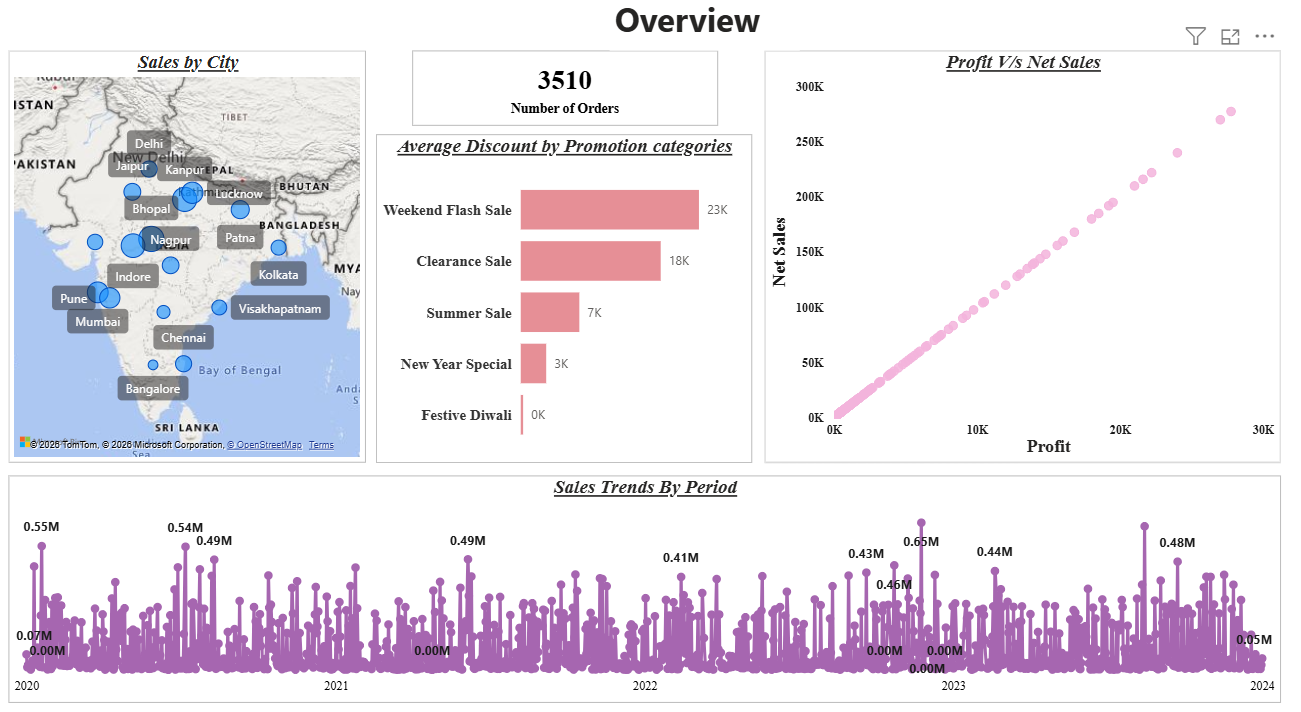

This screenshot's page, from the dashboard's own definition file:
{"tool":"powerbi","page":{"name":"Overview","canvas":[1280,720],"ordinal":0},"visuals":[{"type":"lineChart","title":"Sales Trends By Period","fields":{"Y":["Sum(Fact Table.Net Sales)"],"Category":["Fact Table.Date (dd/mm/yyyy).Variation.Date Hierarchy.Year"]},"box":[19.3,452.4,1242.9,252.1],"z":0},{"type":"scatterChart","title":"Profit V/s Net Sales","fields":{"X":["Fact Table.Profit"],"Y":["Fact Table.Net Sales"]},"box":[757.5,19.2,505,421.3],"z":1000},{"type":"barChart","title":"Average Discount by Promotion categories","fields":{"Y":["Avg(Fact Table.Discount)"],"Category":["Dim Promotion.Promotion Name"]},"box":[380.7,119.1,367.6,321.1],"z":2000},{"type":"map","title":"Sales by City","fields":{"Category":["Dim Customers.City"],"Size":["Sum(Fact Table.Net Sales)"]},"box":[19.2,31.3,350,409.3],"z":3000},{"type":"card","fields":{"Values":["Count(Fact Table.Order ID)"]},"box":[414.4,19.2,299.1,82.3],"z":4000}]}

Visuals, with their boxes in screenshot pixels (x1, y1, x2, y2), scaled from the page's 1280x720 canvas onto the 1301x712 screenshot:
"Sales Trends By Period" lineChart: bbox=[20, 447, 1283, 697]
"Profit V/s Net Sales" scatterChart: bbox=[770, 19, 1283, 436]
"Average Discount by Promotion categories" barChart: bbox=[387, 118, 761, 435]
"Sales by City" map: bbox=[20, 31, 375, 436]
card - Count(Fact Table.Order ID): bbox=[421, 19, 725, 100]
